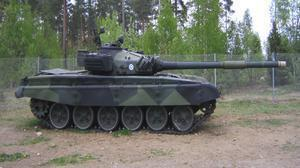t72: (13, 41, 287, 133)
